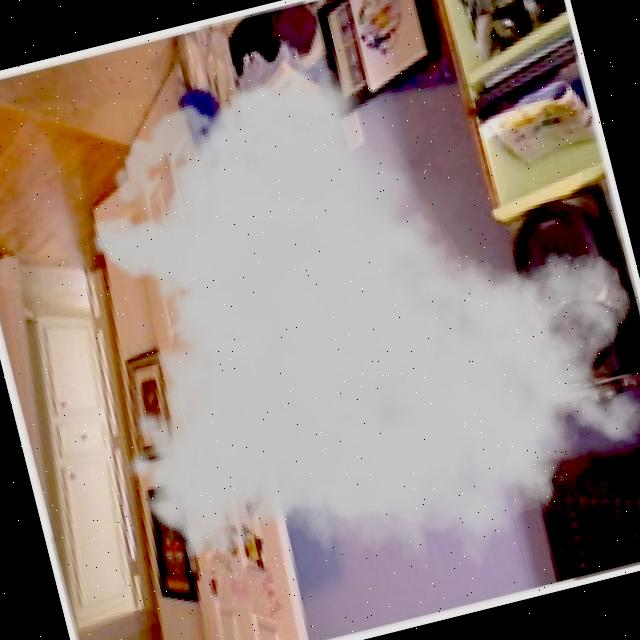smoke: (39, 0, 640, 640)
